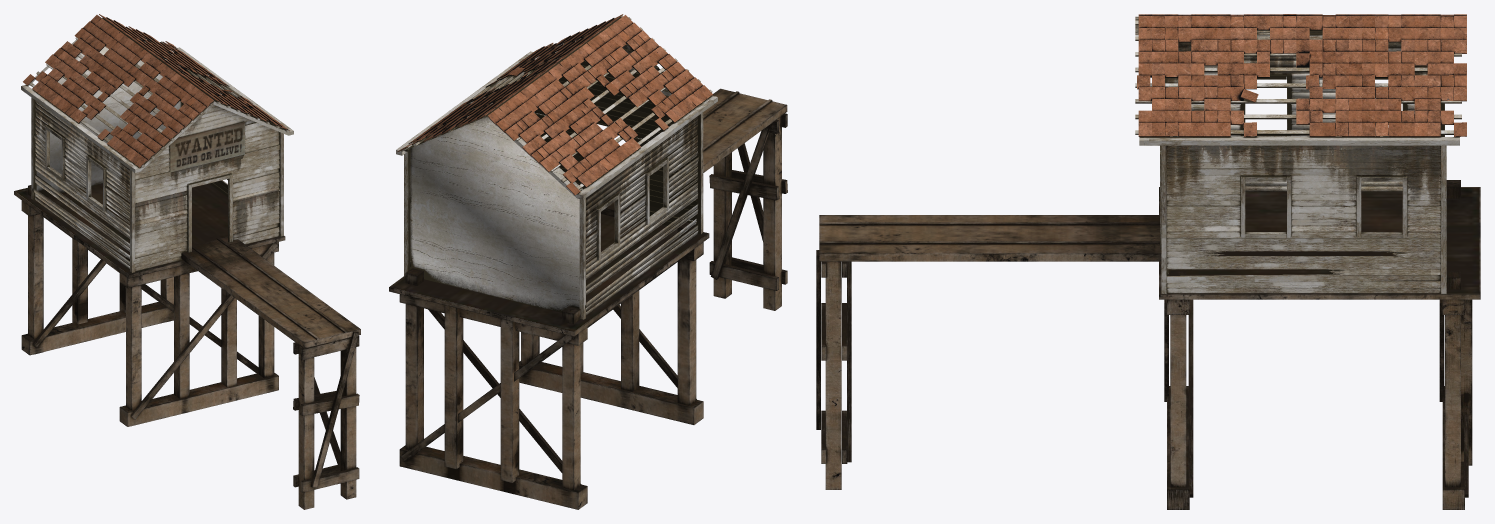
File: Nha_5.fbx
3 renders of one model, left to right at view 1: azimuth 30°, elevation 25°; view 2: azimuth 150°, elevation 25°; view 3: azimuth 270°, elevation 25°, orthographic. The views are drawn at different scales.
Parts seen in each view (by area): view 1: OLd building high; view 2: OLd building high; view 3: OLd building high.
Part boxes in pixels (x1,y1,x2,y2): OLd building high: [14, 14, 360, 509]; OLd building high: [389, 14, 787, 509]; OLd building high: [816, 14, 1480, 509].
Bounding box in the file's own units: 488 × 951 × 1259.
Materials: 6 (6 with a texture image).
